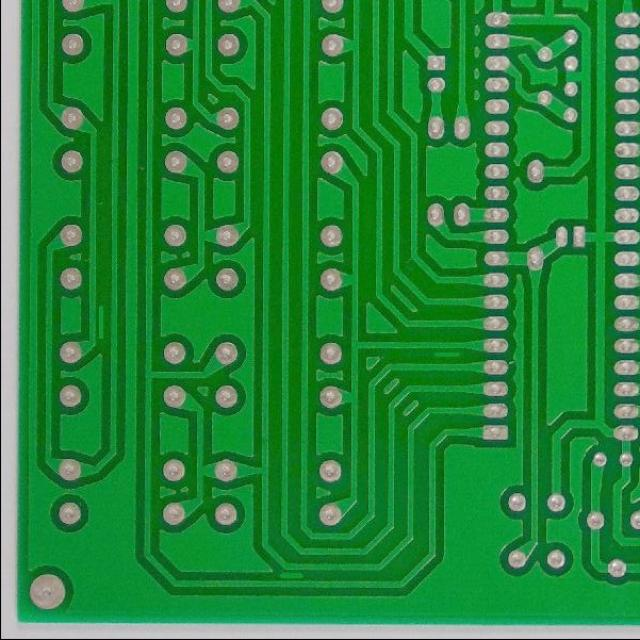spurious_copper: (90, 302, 110, 344), (428, 346, 464, 366), (272, 570, 306, 584)
